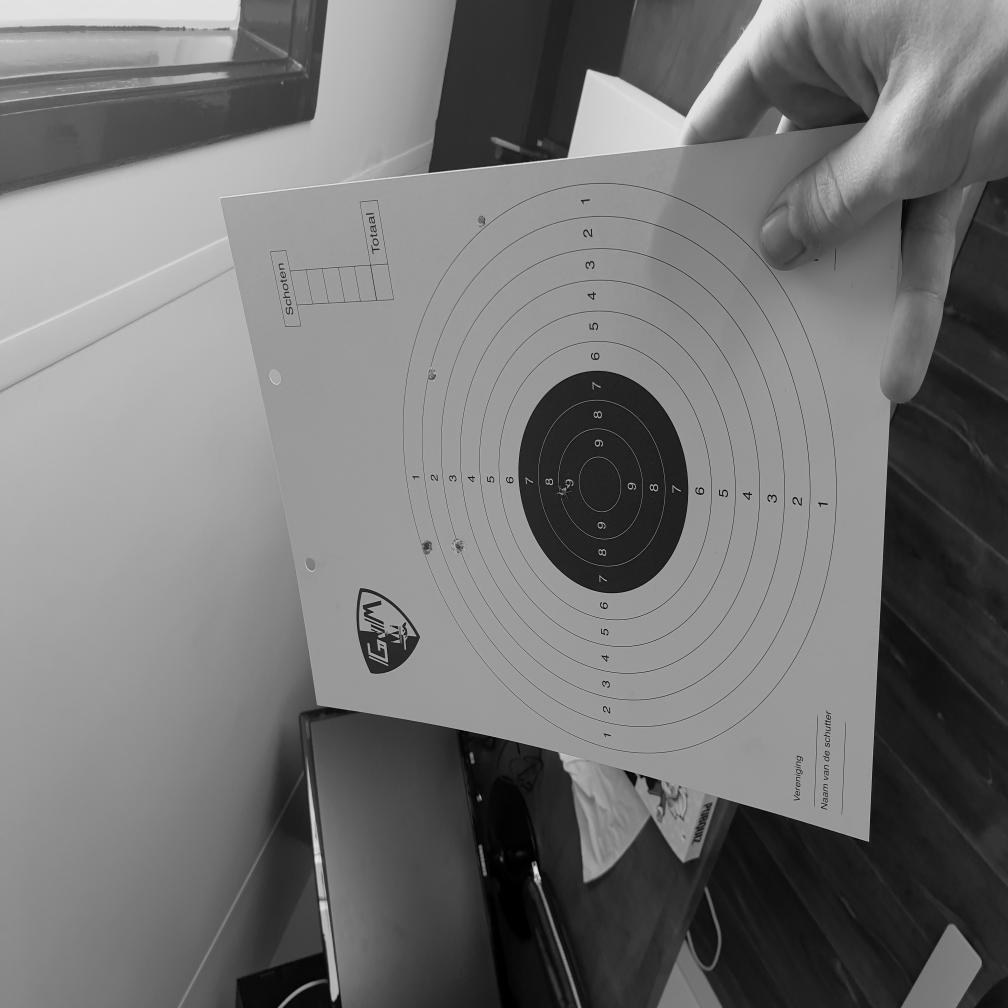0: (475, 213, 487, 230)
1: (420, 539, 434, 557)
2: (426, 365, 438, 383)
3: (451, 534, 463, 554)
9: (553, 477, 574, 500)
Target: (403, 183, 837, 756)
black_contour: (520, 369, 689, 594)
